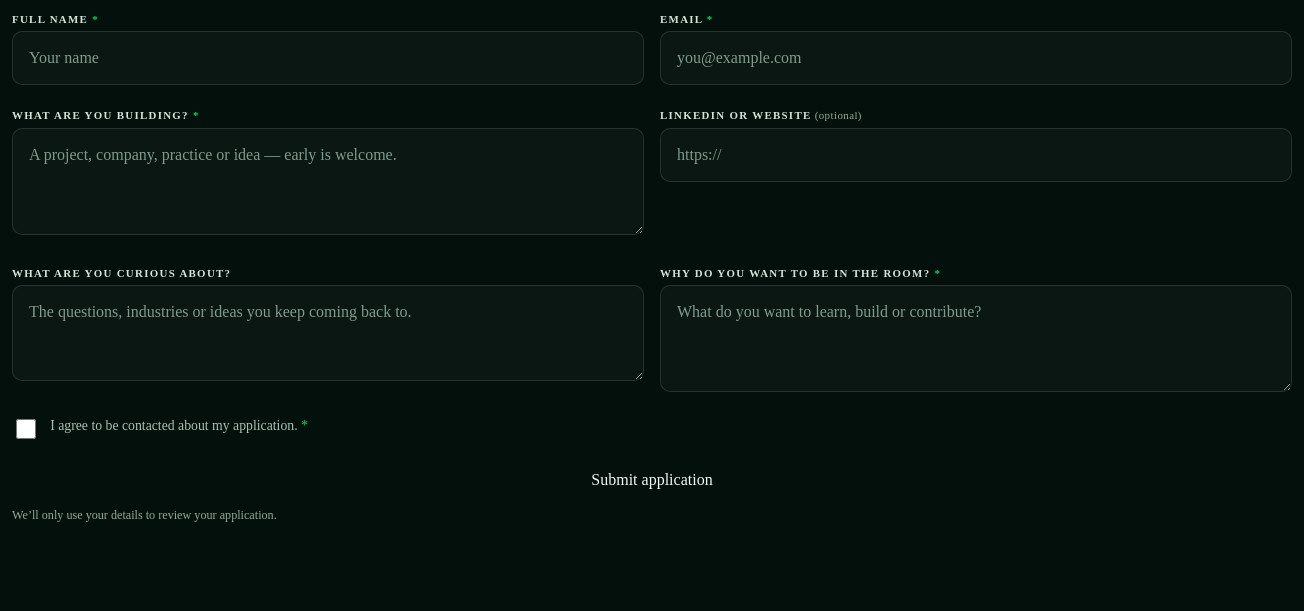
Test: ApplicationForm › maps server-side field errors back onto the form
Type "Ada Lovelace" into the field labelled "Full name *" at coordinates (328, 58), box [12,31,644,85]
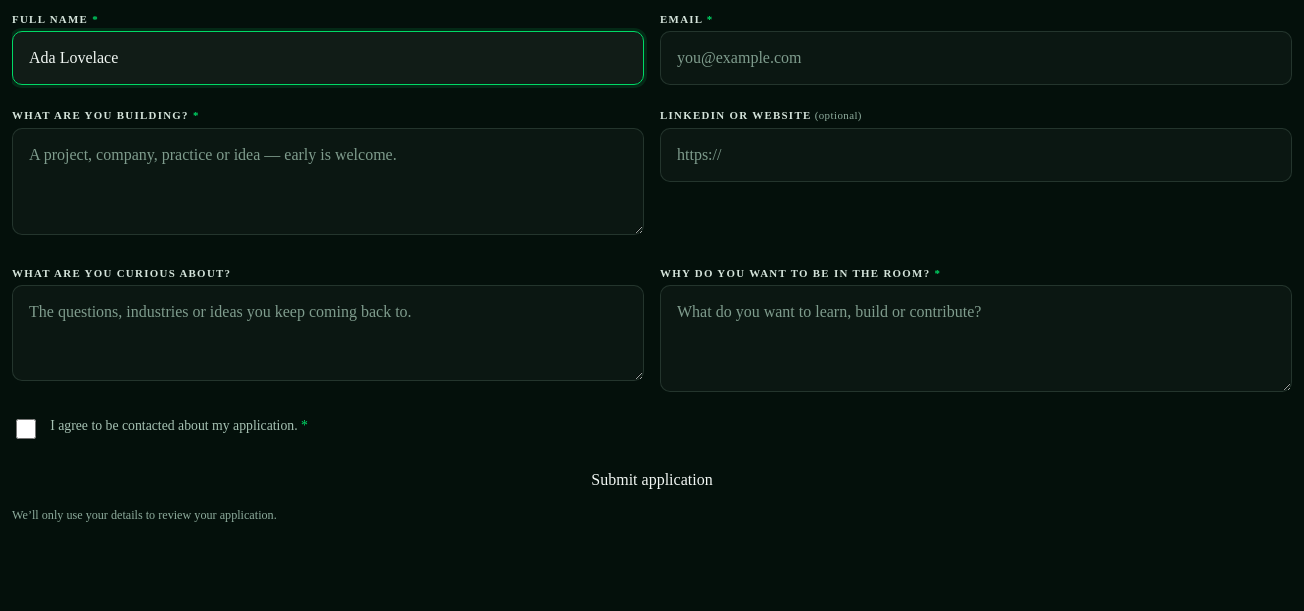
Type "ada@example.com" into the field labelled "Email *" at coordinates (976, 58), box [660,31,1292,85]
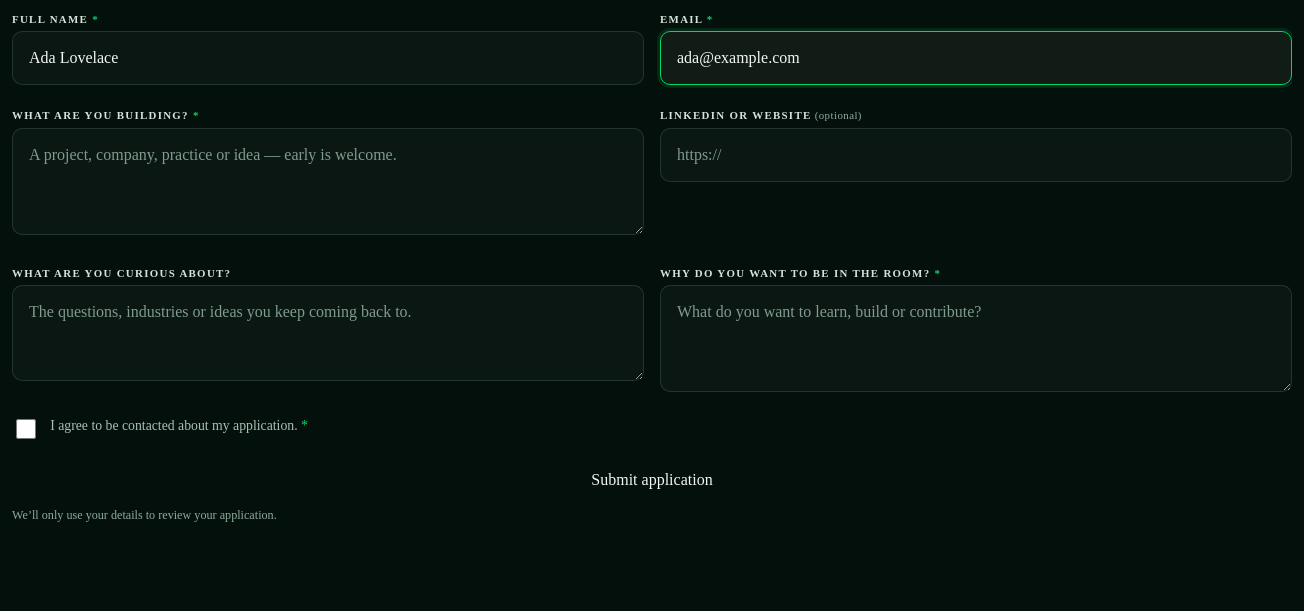
Type "A small studio building useful tools." into the text box labelled "What are you building? *" at coordinates (328, 181), box [12,128,644,235]
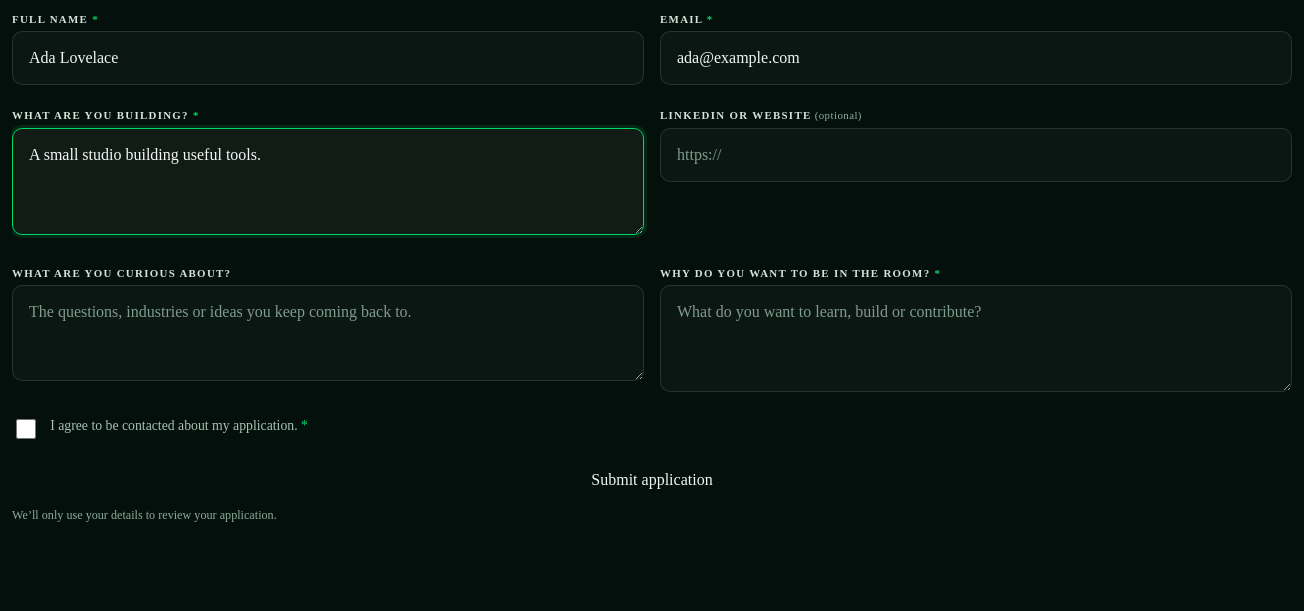
Type "I want to build alongside people who care about difficult, useful problems." into the text box labelled "Why do you want to be in the room? *" at coordinates (976, 339), box [660,285,1292,392]
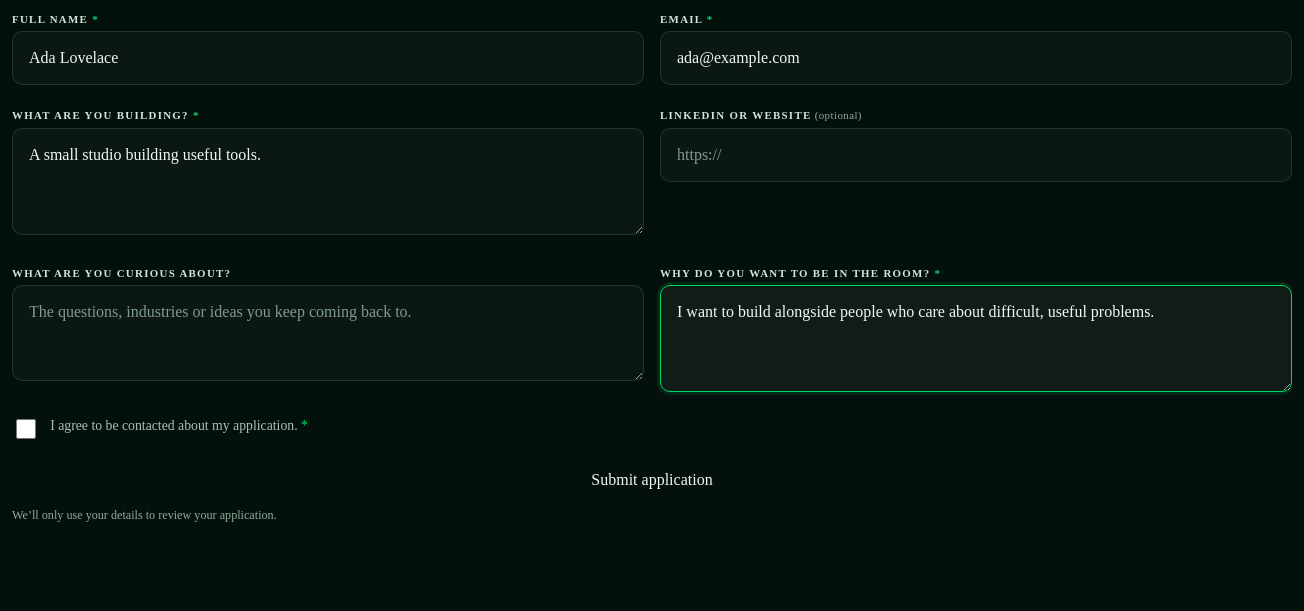
Click the checkbox labelled "I agree to be contacted about my application. *" at coordinates (26, 429), box [16,419,36,439]
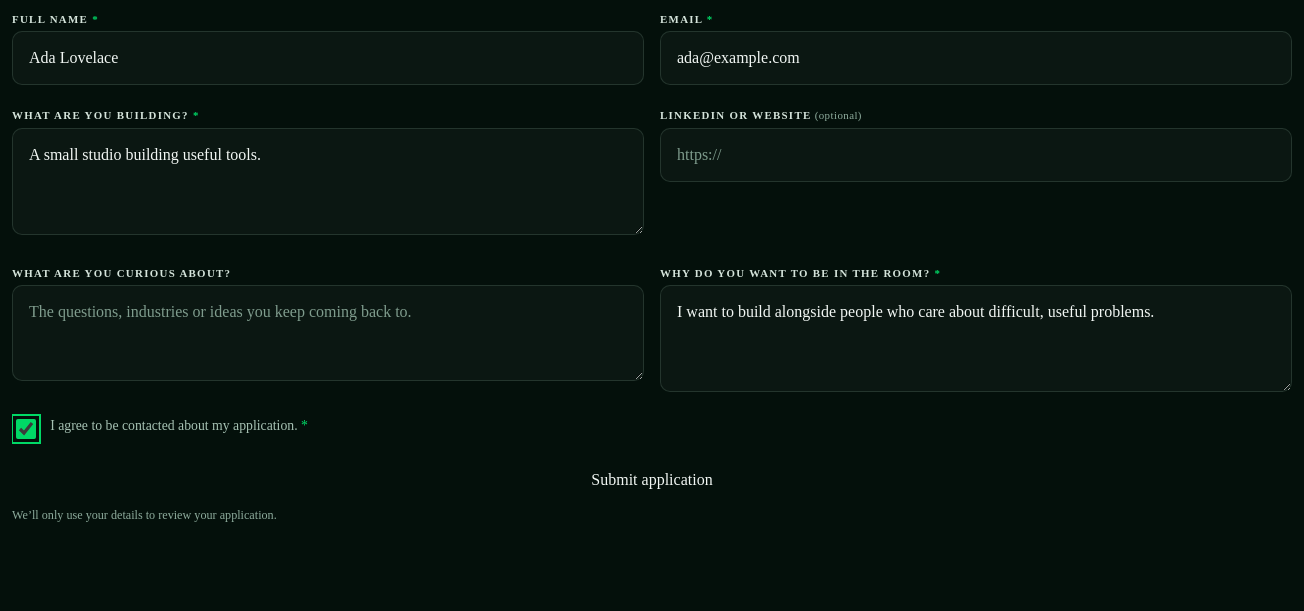
Click the button "Submit application" at coordinates (652, 480), box [12,466,1292,494]
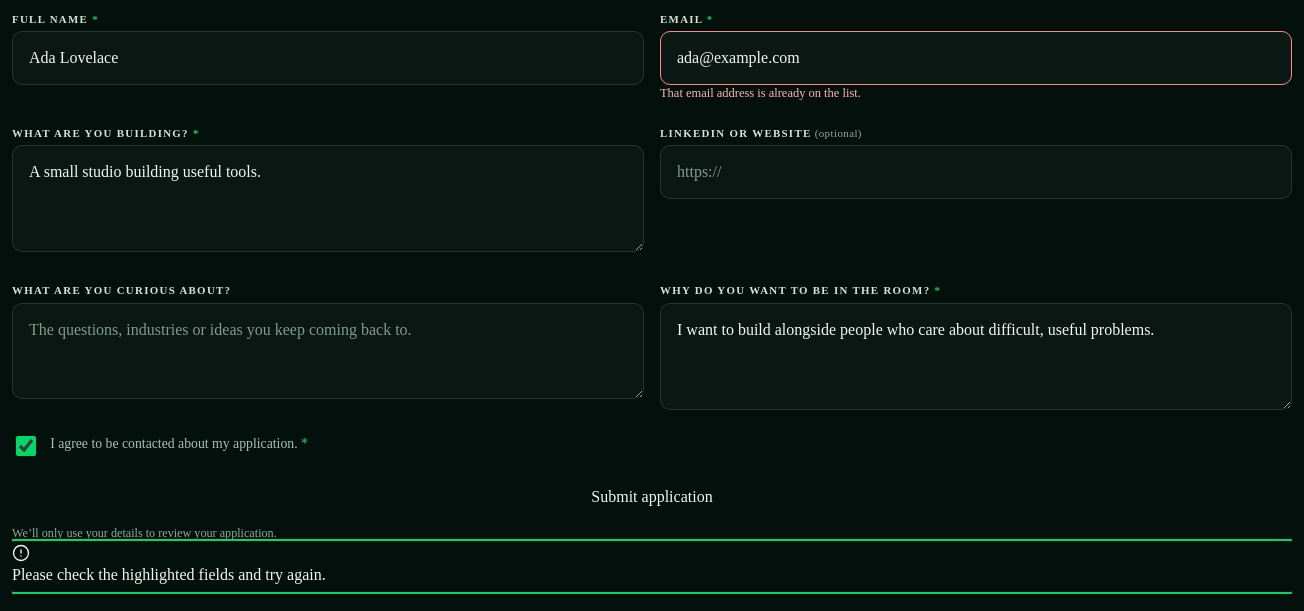
Expected: the text "That email address is already on the list." is shown, [660,86,861,100]
Expected: the message shows "Please check the highlighted fields", [12,566,326,583]
